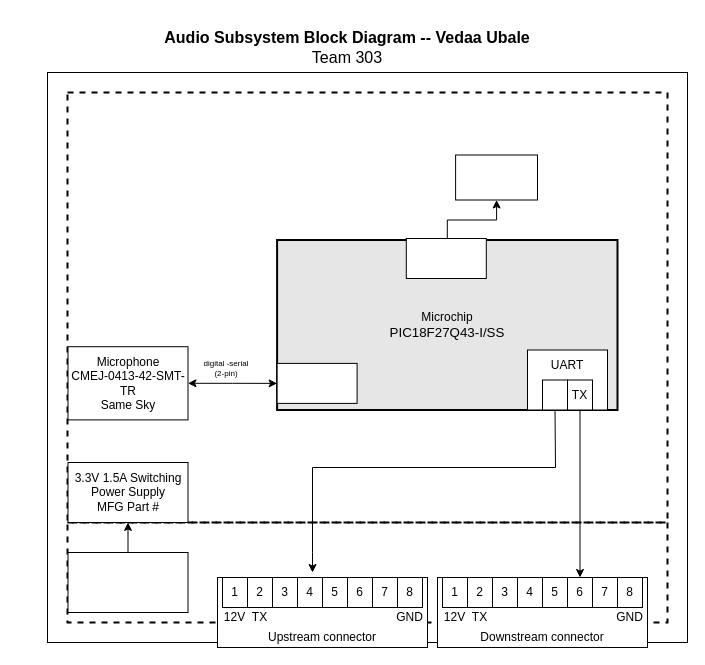
Some shapes in this 705 by 665 pixel diagram are drawn without their labels. Here are the shapes that lost their labels. From the top down, the box of each, then its label:
(455, 154, 538, 200): Debug LED
(405, 238, 486, 278): DO RC5
(276, 362, 357, 403): I2C RC4
(542, 379, 568, 410): RX
(67, 552, 188, 612): Barrel Jack Adapter
